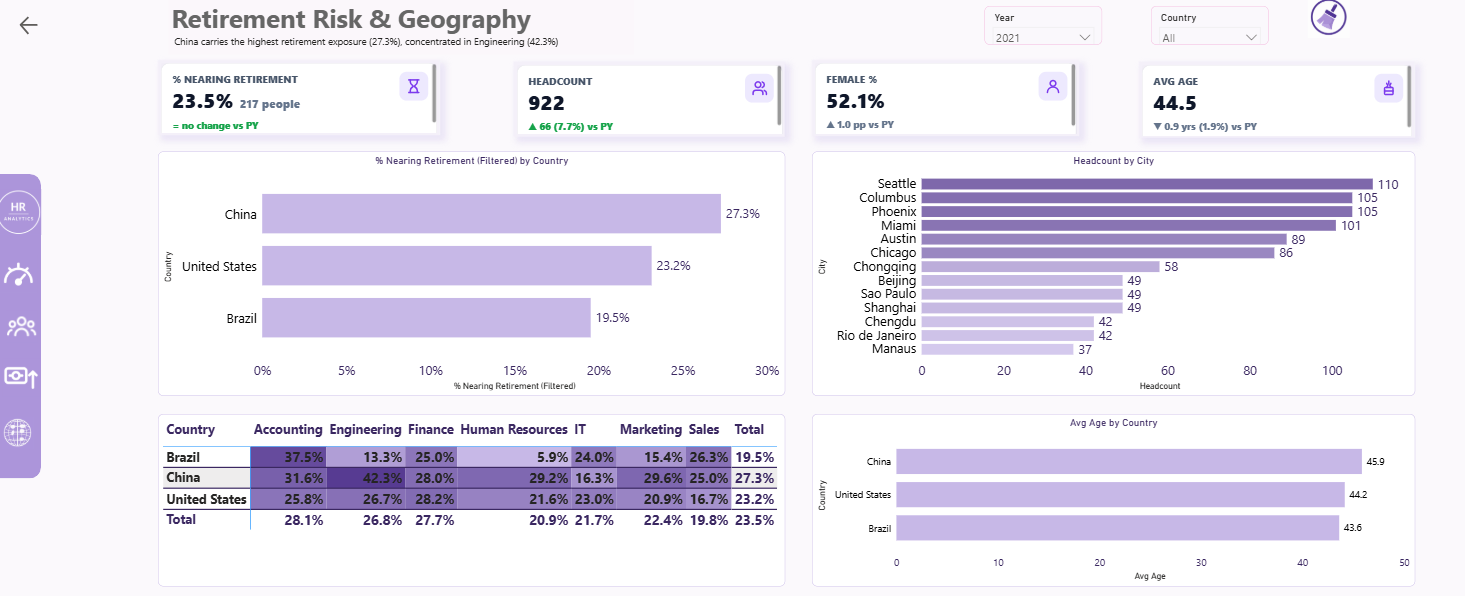

What the dashboard file says about the page in this screenshot:
{"tool":"powerbi","page":{"name":"Retirement Risk & Geography","canvas":[2450,1000],"ordinal":4},"visuals":[{"type":"textbox","box":[287.5,0,775,95],"z":0},{"type":"slicer","fields":{"Values":["Dim_Date.Year"]},"box":[1647.5,15,196.2,64.6],"z":1000},{"type":"barChart","title":" Avg Age by Country","fields":{"Category":["Dim_Location.Country"],"Y":["Fact_Employees.Avg Age"]},"box":[1360,695,1005,287.5],"z":2000},{"type":"clusteredBarChart","fields":{"Category":["Dim_Location.Country"],"Y":["Fact_Employees.% Nearing Retirement (Filtered)"]},"box":[270,257.5,1045,407.5],"z":3000},{"type":"htmlContent443BE3AD55E043BF878BED274D3A6855","fields":{"content":["Fact_Employees.Avg Age Card HTML"]},"box":[1905,107.5,460,127.5],"z":4000},{"type":"image","box":[2157.5,0,127.4,67.9],"z":5000},{"type":"htmlContent443BE3AD55E043BF878BED274D3A6865","fields":{"content":["Fact_Employees.Active Employees Card HTML"]},"box":[862.5,107.5,452.5,125],"z":6000},{"type":"htmlContent443BE3AD55E043BF878BED274D3A6865","fields":{"content":["Fact_Employees.% Nearing Retirement (Filtered) Card HTML"]},"box":[270,105,470,125],"z":7000},{"type":"htmlContent443BE3AD55E043BF878BED274D3A6865","fields":{"content":["Fact_Employees.Female % Card HTML"]},"box":[1360,105,445,127.5],"z":8000},{"type":"clusteredBarChart","fields":{"Category":["Dim_Location.City"],"Y":["Fact_Employees.Headcount"]},"box":[1360,257.5,1005,407.5],"z":9000},{"type":"shape","box":[0,295,75,507.5],"z":10000},{"type":"image","box":[0,295,75,127.5],"z":11000},{"type":"image","box":[0,430,75,62.5],"z":12000},{"type":"image","box":[0,522.5,85.3,52.5],"z":13000},{"type":"image","box":[10,602.5,65,62.5],"z":14000},{"type":"slicer","fields":{"Values":["Dim_Location.Country"]},"box":[1925,15,196.2,64.6],"z":15000},{"type":"image","box":[10,695,52.5,62.5],"z":16000},{"type":"pivotTable","fields":{"Rows":["Dim_Location.Country"],"Columns":["Dim_Job.Department"],"Values":["Fact_Employees.% Nearing Retirement (Filtered)"]},"box":[270,695,1045,287.5],"z":17000},{"type":"actionButton","box":[35,27.5,100,40],"z":18000}]}

Visuals, with their boxes on the page's 2450x1000 design canvas (x1, y1, x2, y2). These are canvas units, not pixel positions in the 1465x596 screenshot, which may show the page scaled, cropped or inside an application window:
textbox: left=288, top=0, right=1062, bottom=95
slicer - Dim_Date.Year: left=1648, top=15, right=1844, bottom=80
" Avg Age by Country" barChart: left=1360, top=695, right=2365, bottom=982
clusteredBarChart - Dim_Location.Country x Fact_Employees.% Nearing Retirement (Filtered): left=270, top=258, right=1315, bottom=665
htmlContent443BE3AD55E043BF878BED274D3A6855 - Fact_Employees.Avg Age Card HTML: left=1905, top=108, right=2365, bottom=235
image: left=2158, top=0, right=2285, bottom=68
htmlContent443BE3AD55E043BF878BED274D3A6865 - Fact_Employees.Active Employees Card HTML: left=862, top=108, right=1315, bottom=232
htmlContent443BE3AD55E043BF878BED274D3A6865 - Fact_Employees.% Nearing Retirement (Filtered) Card HTML: left=270, top=105, right=740, bottom=230
htmlContent443BE3AD55E043BF878BED274D3A6865 - Fact_Employees.Female % Card HTML: left=1360, top=105, right=1805, bottom=232
clusteredBarChart - Dim_Location.City x Fact_Employees.Headcount: left=1360, top=258, right=2365, bottom=665
shape: left=0, top=295, right=75, bottom=802
image: left=0, top=295, right=75, bottom=422
image: left=0, top=430, right=75, bottom=492
image: left=0, top=522, right=85, bottom=575
image: left=10, top=602, right=75, bottom=665
slicer - Dim_Location.Country: left=1925, top=15, right=2121, bottom=80
image: left=10, top=695, right=62, bottom=758
pivotTable - Dim_Location.Country x Dim_Job.Department: left=270, top=695, right=1315, bottom=982
actionButton: left=35, top=28, right=135, bottom=68
